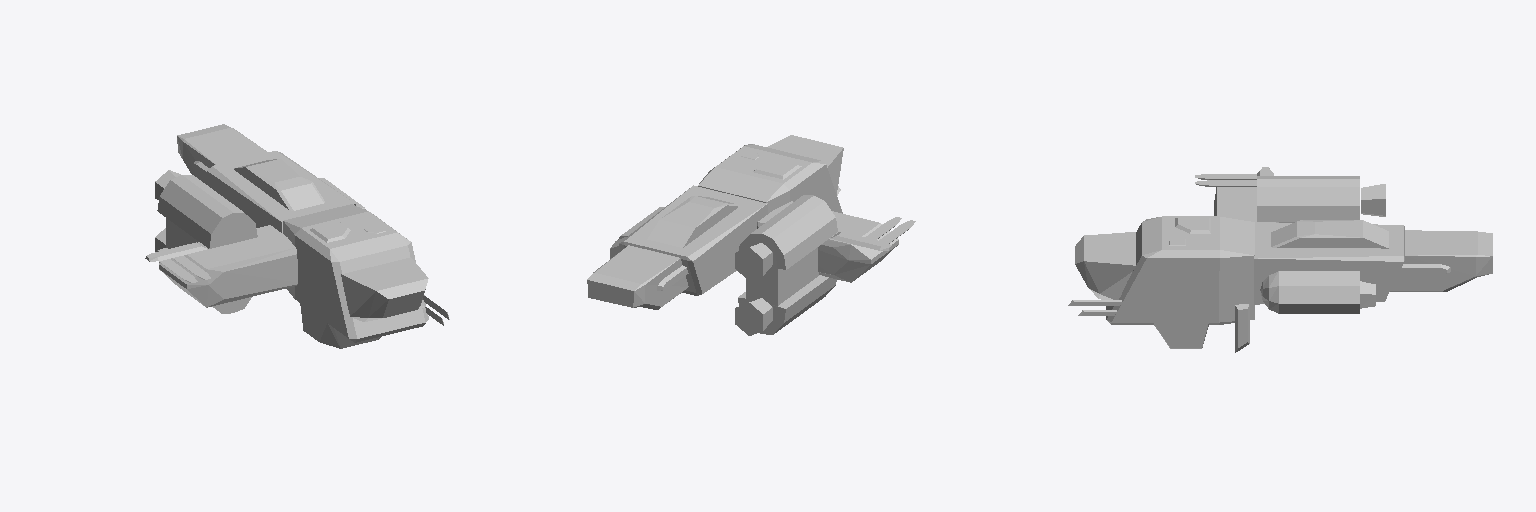
Rendered from fig33_static.obj.
3 views of the same model, side by side, from view 1: azimuth 30°, elevation 25°; view 2: azimuth 150°, elevation 25°; view 3: azimuth 270°, elevation 25° (orthographic).
Visible parts, largest first — view 1: frm-cube6, frm-extru6, frm-cyl13, frm-extru1, frm-cube2, frm-extru5, frm-cube7, frm-cube10, frm-cube17; view 2: frm-cyl13, frm-cube2, frm-cube6, frm-extru5, frm-extru6, frm-cube7, frm-extru1, frm-cyl1_6, frm-cyl1_9, frm-cube10, frm-cube17; view 3: frm-cube6, frm-cube2, frm-cyl13, frm-extru5, frm-sphere5, frm-extru1, frm-cube7, frm-extru6, frm-cyl1_9, frm-cube15, frm-cube17.
Boxes of the visible parts, box(x1,y1,x2,y2) form: frm-cube6: box(283, 204, 428, 348); frm-extru6: box(159, 225, 297, 307); frm-cyl13: box(157, 175, 257, 313); frm-extru1: box(341, 257, 428, 321); frm-cube2: box(207, 151, 355, 233); frm-extru5: box(177, 124, 267, 186); frm-cube7: box(234, 159, 324, 210); frm-cube10: box(145, 242, 207, 261); frm-cube17: box(310, 222, 350, 242); frm-cyl13: box(738, 195, 837, 334); frm-cube2: box(619, 185, 767, 295); frm-cube6: box(698, 144, 842, 213); frm-extru5: box(587, 245, 688, 309); frm-extru6: box(757, 201, 898, 282); frm-cube7: box(647, 196, 739, 247); frm-extru1: box(768, 135, 843, 195); frm-cyl1_6: box(735, 298, 772, 335); frm-cyl1_9: box(735, 243, 772, 280); frm-cube10: box(830, 232, 892, 250); frm-cube17: box(753, 161, 801, 179); frm-cube6: box(1106, 216, 1254, 348); frm-cube2: box(1254, 222, 1404, 304); frm-cyl13: box(1257, 176, 1359, 222); frm-extru5: box(1390, 230, 1492, 291); frm-sphere5: box(1260, 271, 1359, 313); frm-extru1: box(1075, 232, 1135, 299); frm-cube7: box(1271, 220, 1388, 248); frm-extru6: box(1214, 187, 1278, 222); frm-cyl1_9: box(1361, 184, 1385, 216); frm-cube15: box(1235, 304, 1249, 352); frm-cube17: box(1175, 217, 1210, 233).
Bounding box in the file's own units: 4.94 × 2.46 × 7.87.